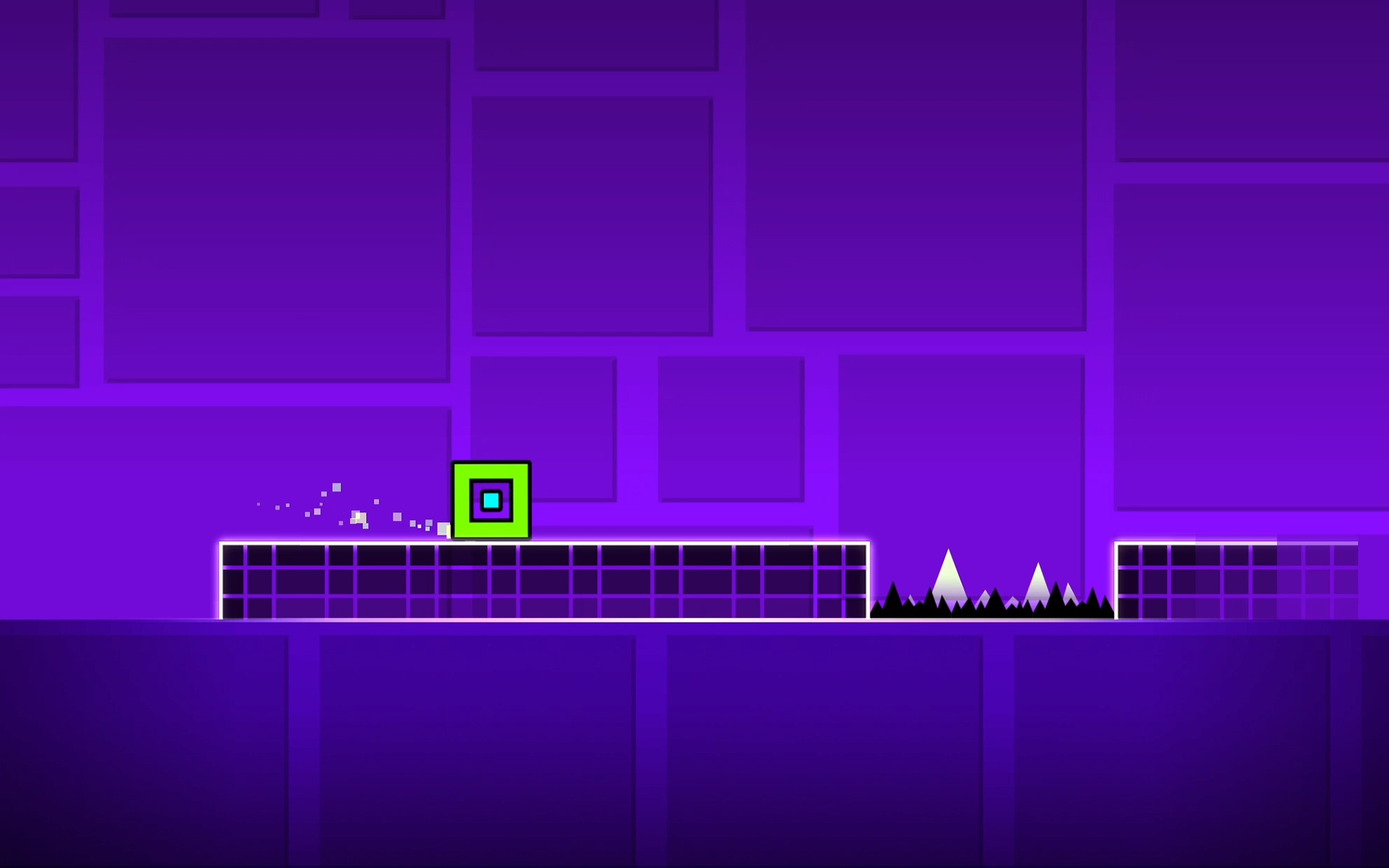Block2: (215, 540, 860, 616), (1115, 541, 1364, 620)
Player: (451, 460, 531, 538)
Spike2: (872, 584, 1115, 622)
